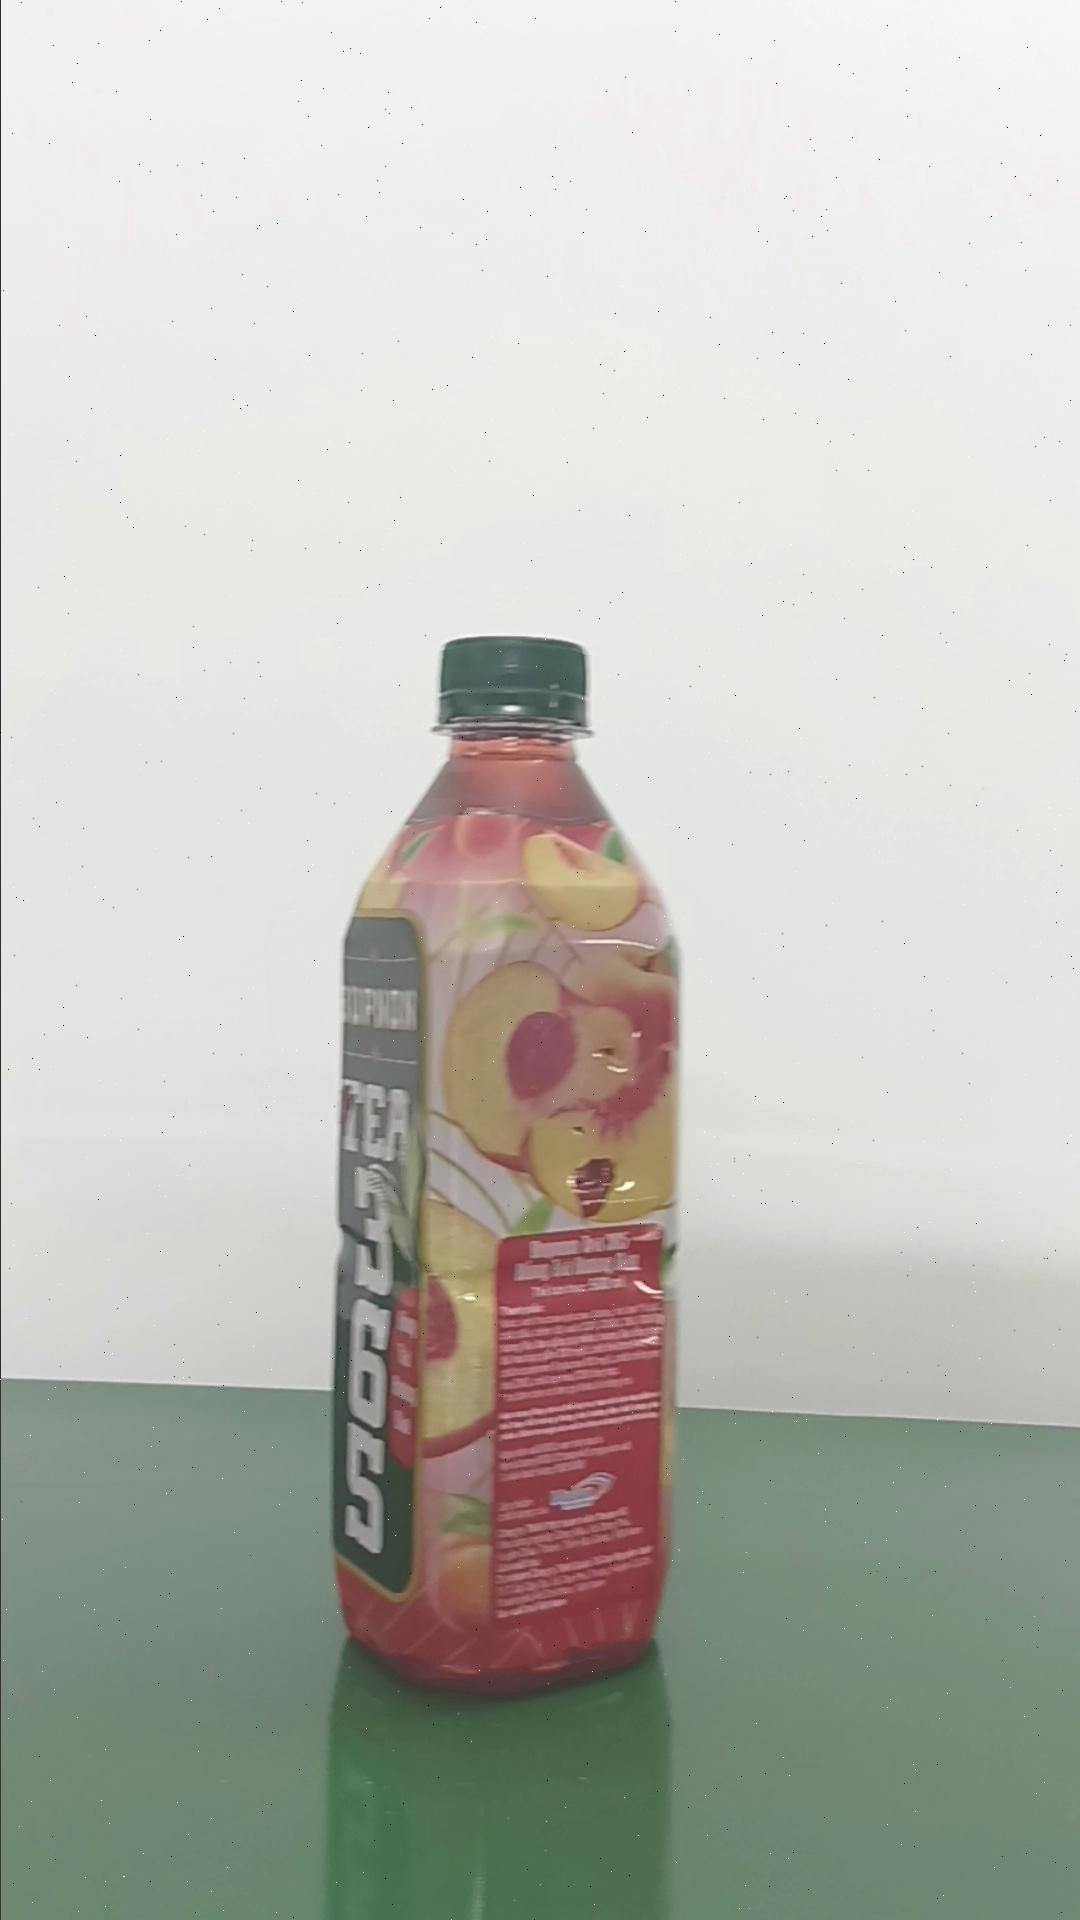loi rach va lap chai: (331, 621, 680, 1689)
